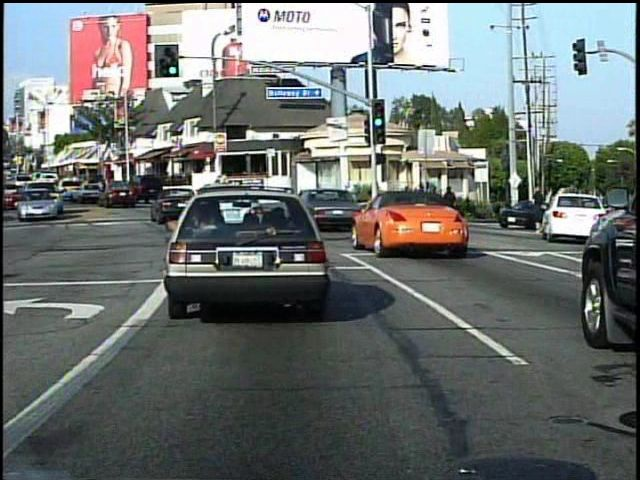person: (528, 181, 543, 238), (443, 183, 459, 225)
